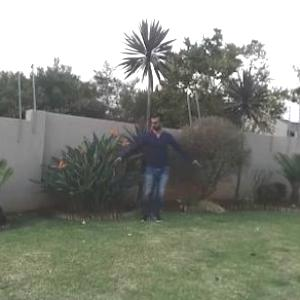land: (107, 106, 205, 231)
